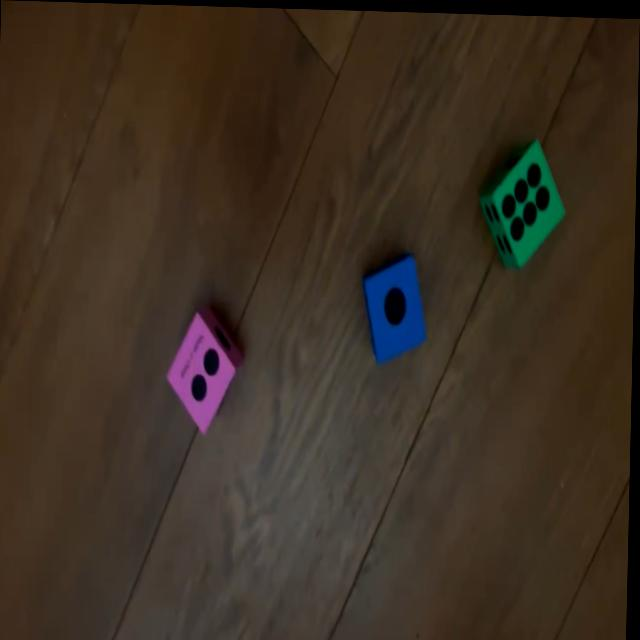cube: (482, 136, 568, 268), (361, 255, 429, 362)
